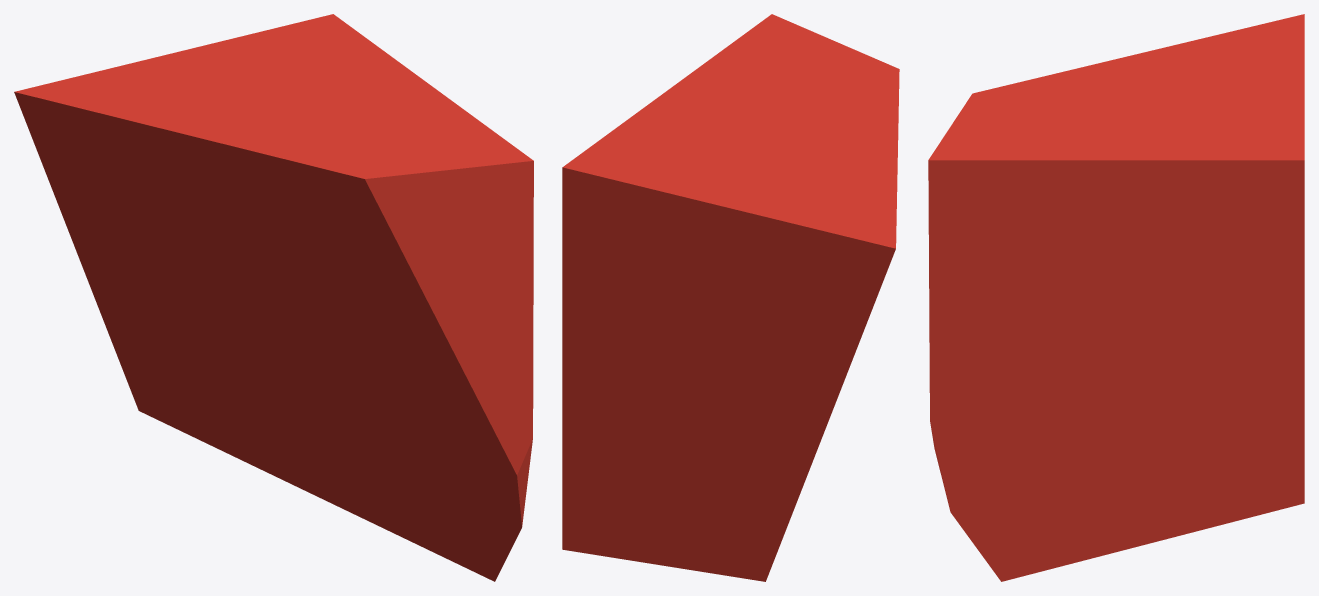
3 views of the same model, side by side, from view 1: azimuth 30°, elevation 25°; view 2: azimuth 150°, elevation 25°; view 3: azimuth 270°, elevation 25° (orthographic). The views are drawn at different scales.
Visible parts, largest first — view 1: Cube_cell; view 2: Cube_cell; view 3: Cube_cell.
Boxes of the visible parts, x1,y1,x2,y2 form: Cube_cell: (14, 14, 533, 581); Cube_cell: (562, 14, 899, 581); Cube_cell: (928, 14, 1304, 581).
Bounding box in the file's own units: 113 × 152 × 123.
